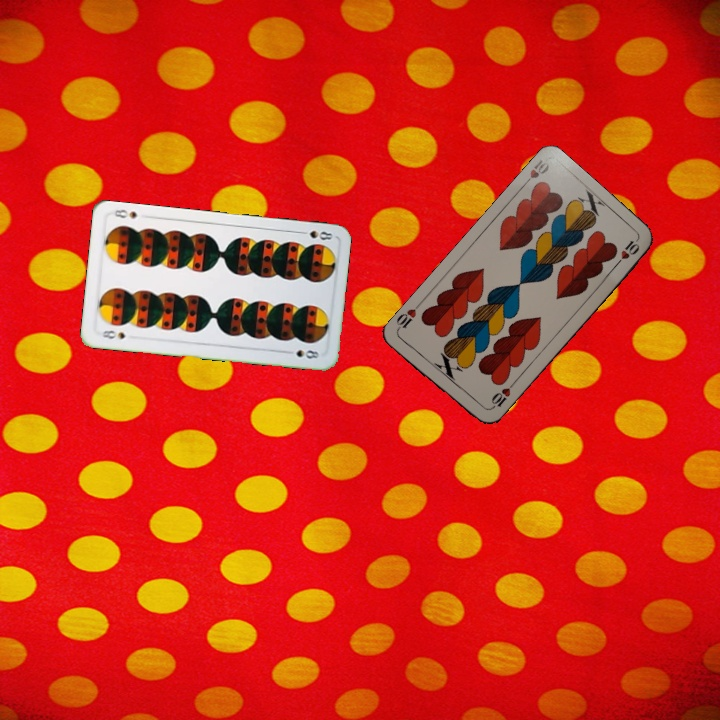H10: (518, 155, 553, 190), (485, 379, 517, 413)
S8: (295, 227, 335, 243), (98, 326, 128, 341)
